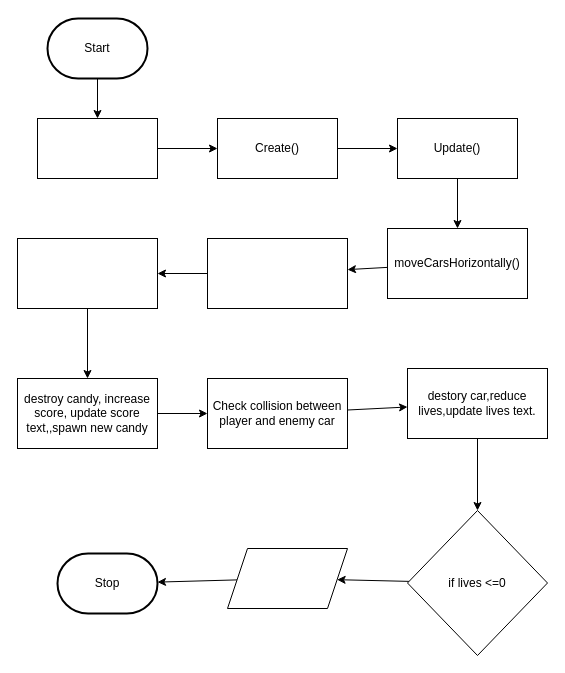
The diagram is 565 pixels wide and 673 high, and some of its shapes have lost their labels. Each missing label, with the box of its shape:
Check collision between player and candy: (16, 238, 158, 308)
gameOver(): (226, 548, 348, 608)
Preload(): (36, 118, 158, 178)
spawnCandy(): (206, 238, 348, 308)
